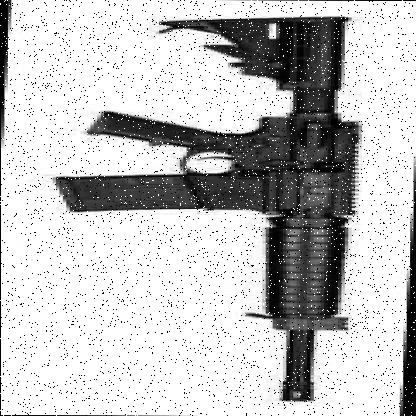rifle: (51, 19, 386, 402)
